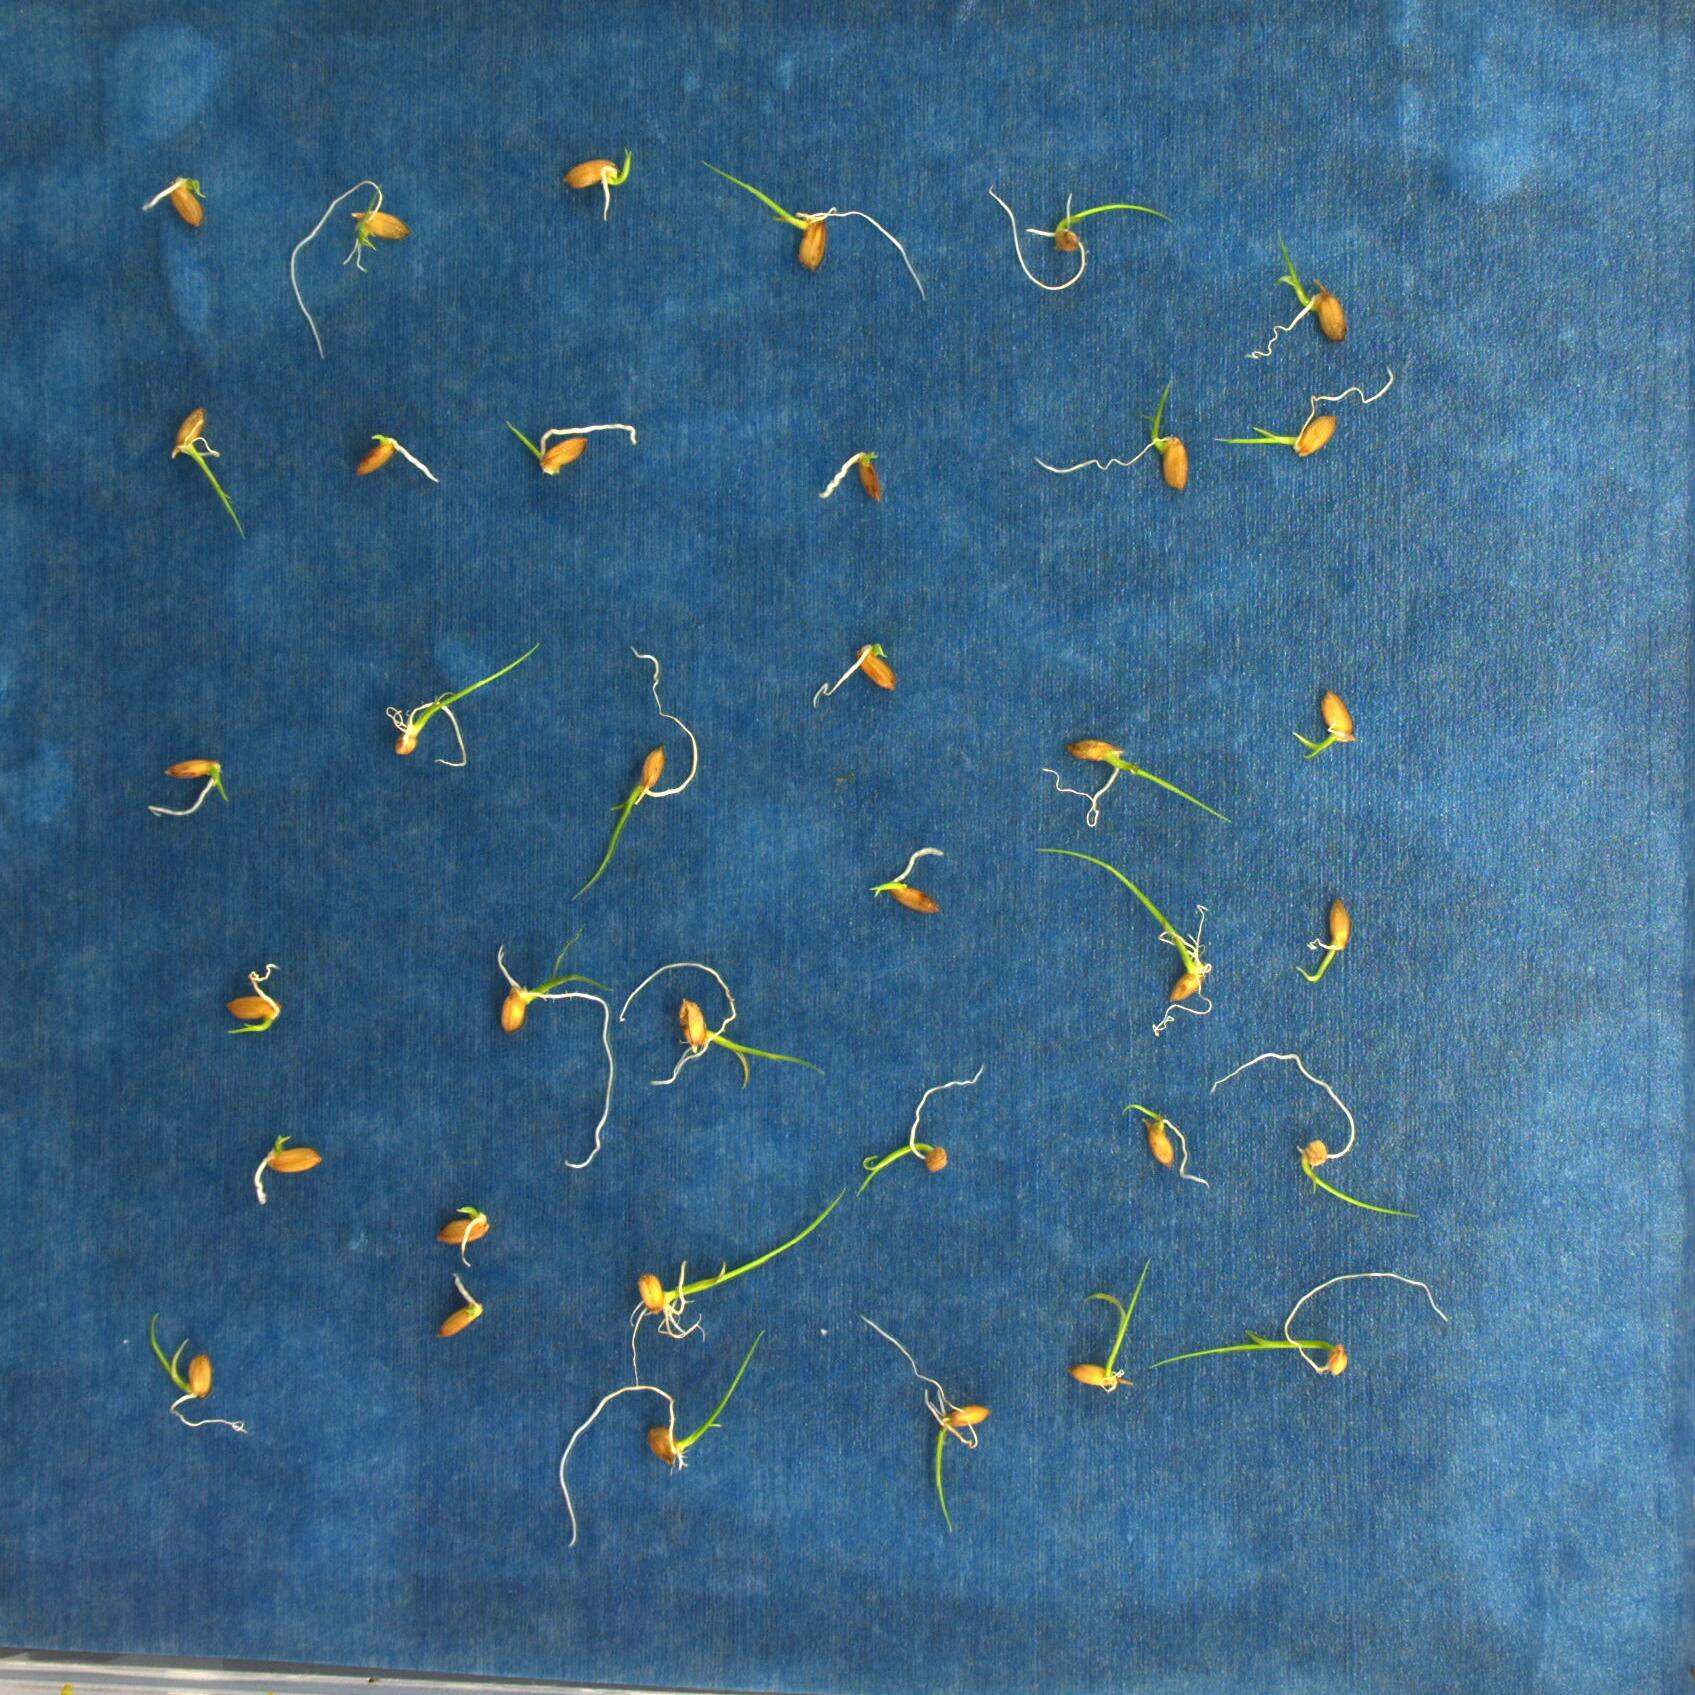not sprout: (810, 641, 894, 702), (250, 1132, 320, 1203), (357, 433, 438, 487), (813, 452, 885, 504), (436, 1206, 490, 1265), (435, 1274, 483, 1333)
sprout: (557, 1329, 767, 1546), (629, 1180, 847, 1385), (1211, 1052, 1419, 1218), (1035, 849, 1215, 1035), (698, 160, 927, 304), (570, 647, 698, 900), (1153, 1271, 1450, 1375), (494, 930, 616, 1170), (861, 1316, 990, 1534), (622, 959, 826, 1087), (289, 180, 408, 360), (990, 189, 1177, 292), (386, 641, 540, 765), (1035, 369, 1189, 492), (858, 1063, 987, 1197), (1042, 737, 1236, 826), (1212, 368, 1395, 456), (1245, 230, 1346, 359), (1063, 1256, 1153, 1395), (149, 1312, 248, 1434), (171, 407, 248, 542), (1122, 1107, 1212, 1184), (504, 421, 636, 473), (869, 844, 945, 911), (562, 149, 633, 219), (147, 756, 230, 813), (1295, 899, 1349, 986), (224, 959, 279, 1034), (1293, 691, 1354, 757), (143, 175, 206, 230)
